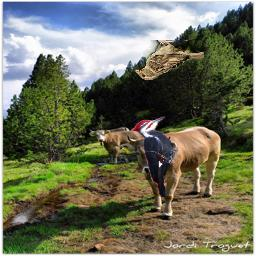Sparrow: (134, 40, 204, 80)
Woodpecker: (132, 117, 179, 198)
